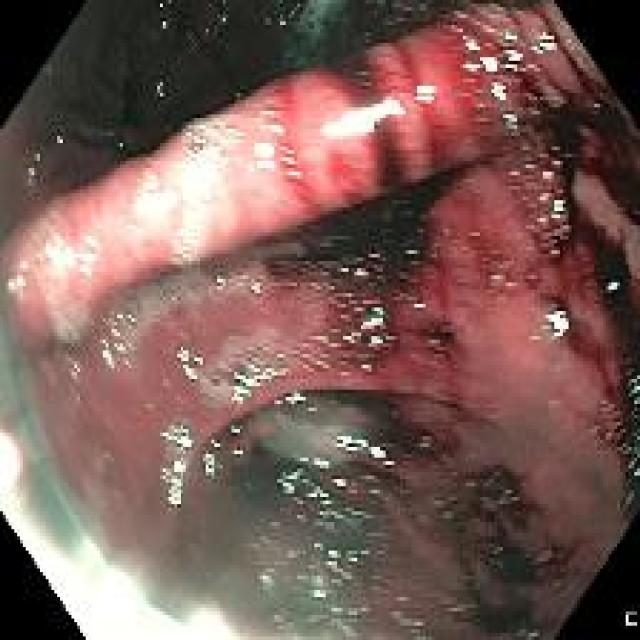blood: (140, 423, 427, 633), (533, 85, 636, 519), (439, 467, 568, 627), (265, 186, 445, 284), (425, 331, 455, 362)
bubbles: (101, 271, 259, 372), (253, 394, 392, 471), (200, 330, 298, 397), (278, 1, 356, 70), (46, 300, 98, 353)
contrast: (49, 1, 438, 173)
saturation: (5, 436, 239, 639), (129, 140, 224, 258)
specularity: (38, 232, 104, 284), (96, 310, 142, 375), (323, 103, 403, 136), (227, 360, 290, 400), (281, 465, 331, 512), (343, 299, 388, 350), (183, 122, 240, 158), (334, 431, 388, 461), (316, 541, 357, 578), (246, 136, 277, 175), (544, 303, 571, 341), (273, 386, 310, 413), (501, 31, 525, 72), (165, 460, 185, 509), (5, 256, 30, 292), (531, 28, 558, 59), (175, 343, 198, 376), (259, 14, 294, 35), (336, 259, 368, 281), (410, 81, 438, 104), (163, 424, 194, 444), (259, 108, 282, 134), (600, 274, 627, 296), (402, 292, 427, 315), (403, 240, 422, 270), (478, 55, 501, 79), (488, 80, 510, 104), (485, 271, 514, 288), (460, 31, 482, 53), (273, 147, 297, 165), (66, 360, 82, 387), (155, 15, 173, 38), (501, 111, 524, 129), (248, 275, 265, 299), (202, 452, 218, 477), (312, 456, 333, 474), (551, 194, 565, 221), (214, 9, 231, 29), (306, 588, 327, 604), (231, 443, 250, 460), (154, 79, 167, 103), (211, 272, 228, 288), (329, 473, 345, 489), (210, 439, 225, 455), (463, 56, 478, 72), (26, 166, 38, 179), (315, 334, 328, 343), (53, 134, 64, 144), (359, 364, 374, 371), (633, 381, 639, 394), (32, 153, 42, 160)
